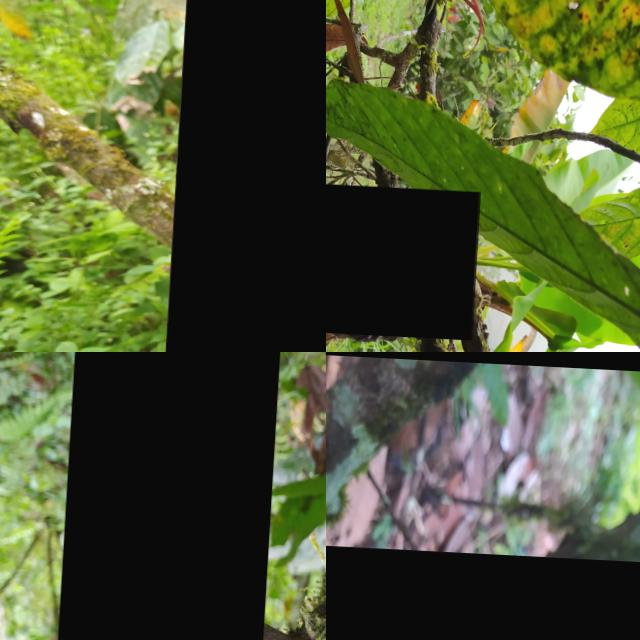Fitoftora: (62, 352, 291, 640)
Monilia: (326, 542, 640, 640), (326, 175, 483, 336)
Sana: (167, 0, 326, 352)
